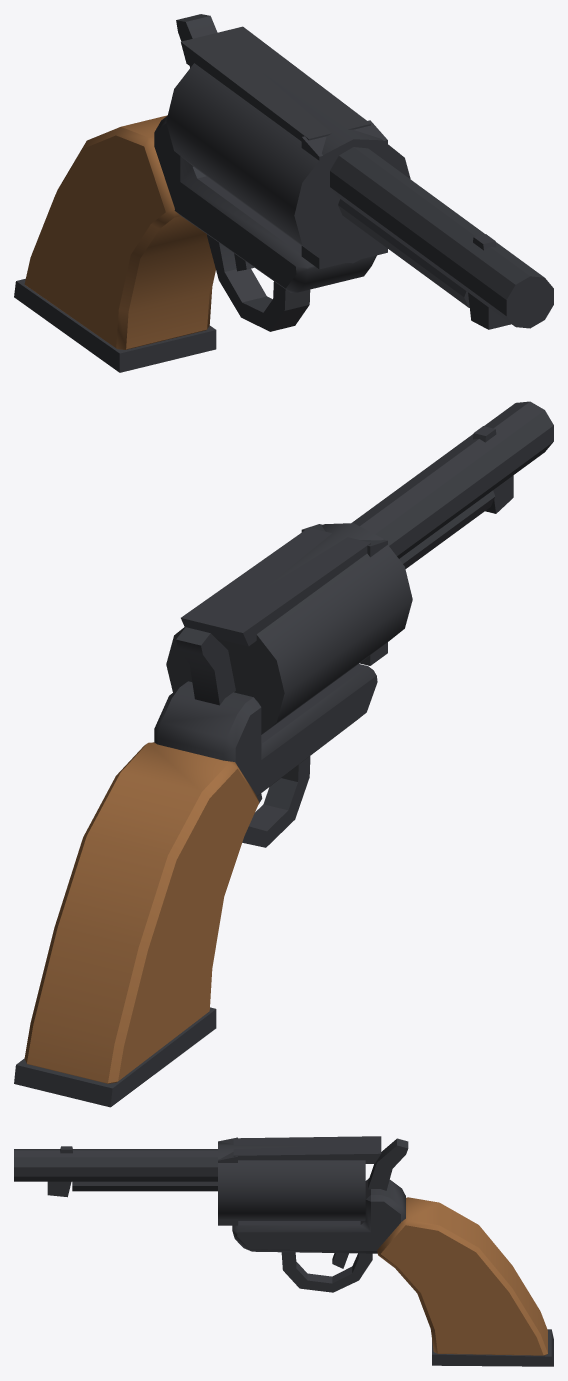
Rendered from Revolver.fbx.
3 views of the same model, one above another, from view 1: azimuth 30°, elevation 25°; view 2: azimuth 150°, elevation 25°; view 3: azimuth 270°, elevation 25° (orthographic). The views are drawn at different scales.
Parts seen in each view (by area): view 1: Revolver; view 2: Revolver; view 3: Revolver.
Part boxes in pixels (left/top/right/bottom): Revolver: left=14, top=14, right=553, bottom=372; Revolver: left=14, top=401, right=553, bottom=1107; Revolver: left=14, top=1136, right=553, bottom=1366.
Bounding box in the file's own units: 0.038 × 0.1122 × 0.26.
